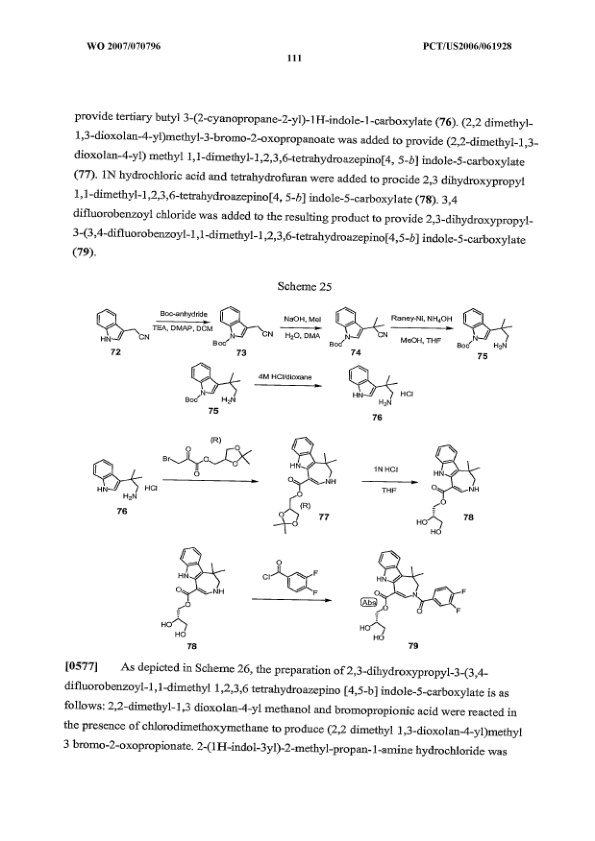compound-structure: (357, 546, 469, 655), (152, 539, 239, 654), (273, 432, 343, 541), (415, 442, 489, 543), (333, 359, 417, 424), (85, 448, 159, 514), (176, 359, 247, 420), (89, 298, 152, 365), (161, 434, 258, 477), (210, 304, 280, 358), (454, 305, 513, 362), (322, 305, 390, 354), (263, 550, 328, 599)
reaction: (64, 275, 545, 662)
reaction-arrow: (162, 432, 263, 497), (356, 458, 420, 504), (384, 310, 454, 350), (150, 305, 211, 336), (256, 368, 321, 395), (247, 591, 339, 610), (280, 308, 325, 344)
